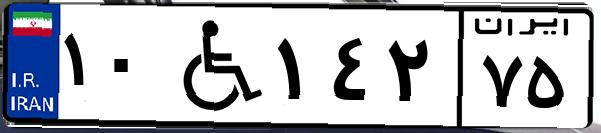0: (110, 28, 158, 98)
1: (270, 28, 330, 110), (57, 26, 110, 100)
2: (385, 28, 445, 110)
4: (330, 28, 385, 110)
5: (525, 38, 570, 115)
7: (475, 38, 525, 113)
ژ (معلولین و جانبازان): (158, 12, 270, 120)
